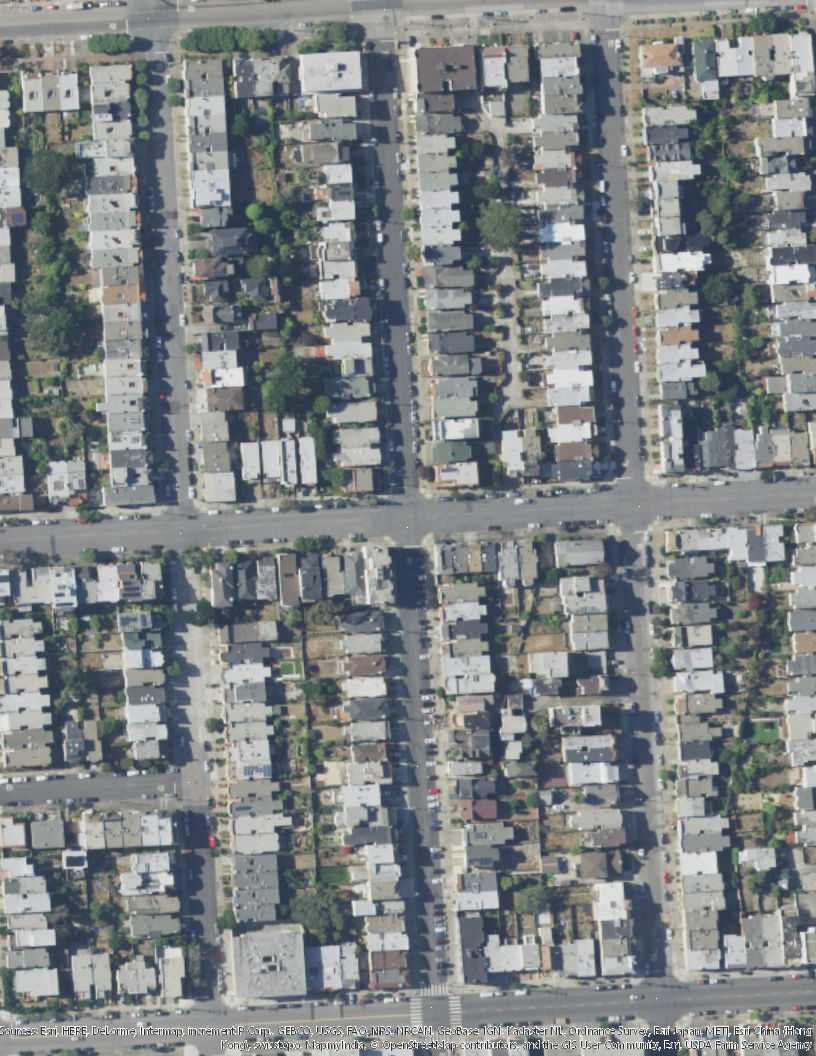zebracross: (448, 996, 463, 1028), (408, 997, 424, 1027), (420, 983, 449, 996)
